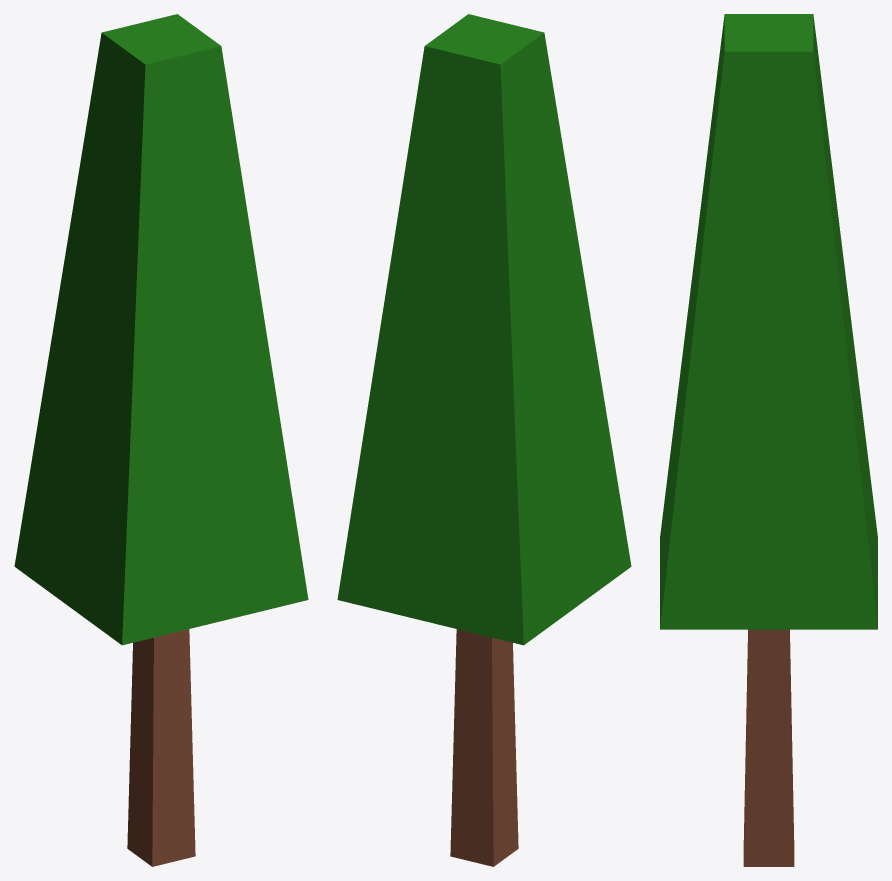
The model's file is Tree_26_summer_mat.fbx.
3 views of the same model, side by side, from view 1: azimuth 30°, elevation 25°; view 2: azimuth 150°, elevation 25°; view 3: azimuth 270°, elevation 25° (orthographic).
Visible parts, largest first — view 1: Tree_26_summer_mat; view 2: Tree_26_summer_mat; view 3: Tree_26_summer_mat.
Part boxes in pixels (x1,y1,x2,y2): Tree_26_summer_mat: (14, 14, 308, 866); Tree_26_summer_mat: (337, 14, 631, 866); Tree_26_summer_mat: (660, 14, 877, 866).
Bounding box in the file's own units: 2.53 × 10.54 × 2.53.
